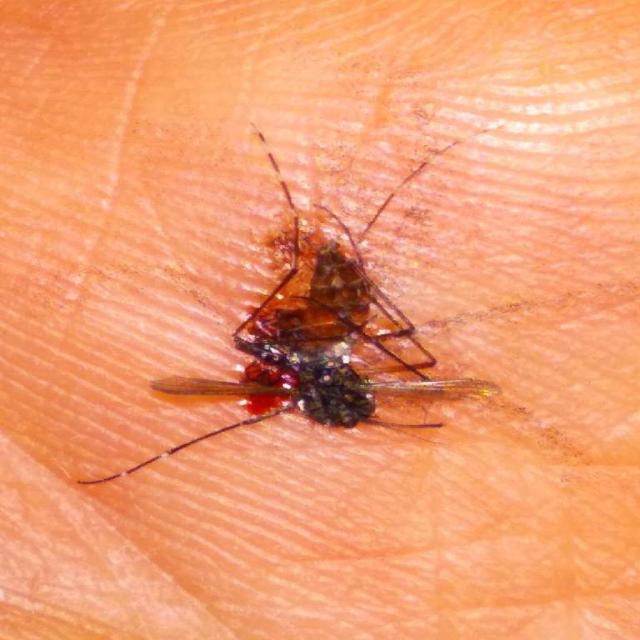albopictus: (121, 94, 515, 498)
